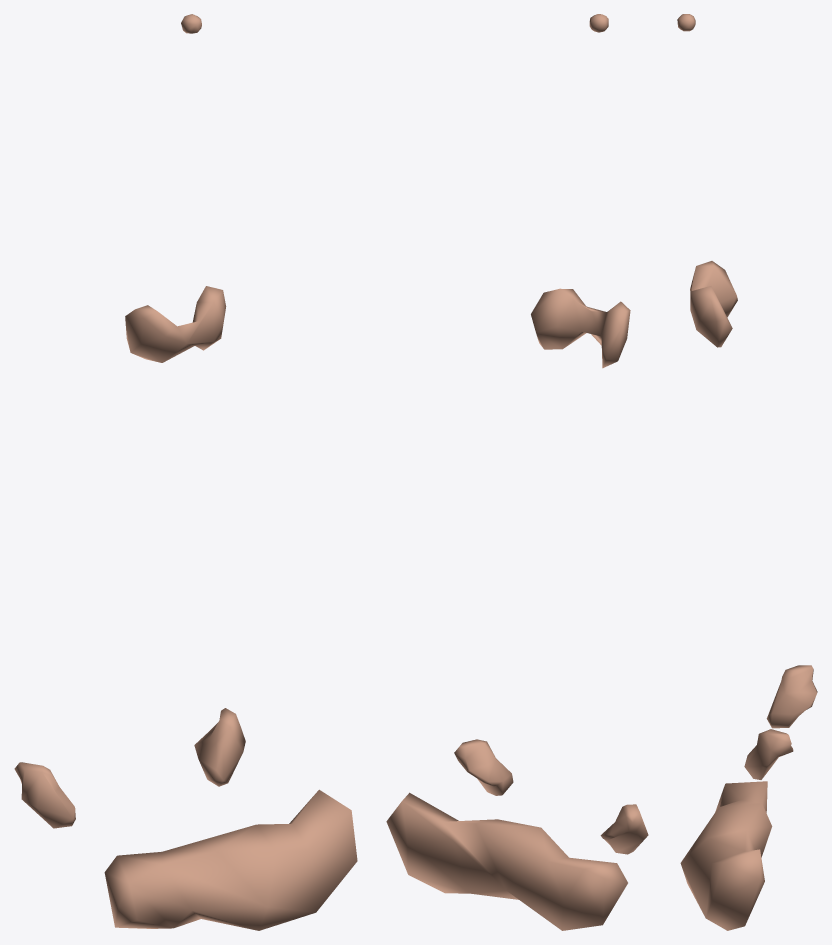
Rendered from pediatric_adolescent_male.endocrine.LOD3.glb.
The picture shows the model from 3 angles, left to right: view 1: azimuth 30°, elevation 25°; view 2: azimuth 150°, elevation 25°; view 3: azimuth 270°, elevation 25°; orthographic projection. The views are drawn at different scales.
Visible parts, largest first — view 1: PEDIATRIC.ADOLESCENT.MALE.ENDOCRINE.PANCREAS, PEDIATRIC.ADOLESCENT.MALE.ENDOCRINE.THYROID, PEDIATRIC.ADOLESCENT.MALE.ENDOCRINE.ADRENAL.L, PEDIATRIC.ADOLESCENT.MALE.ENDOCRINE.ADRENAL.R; view 2: PEDIATRIC.ADOLESCENT.MALE.ENDOCRINE.PANCREAS, PEDIATRIC.ADOLESCENT.MALE.ENDOCRINE.THYROID, PEDIATRIC.ADOLESCENT.MALE.ENDOCRINE.ADRENAL.L, PEDIATRIC.ADOLESCENT.MALE.ENDOCRINE.ADRENAL.R; view 3: PEDIATRIC.ADOLESCENT.MALE.ENDOCRINE.PANCREAS, PEDIATRIC.ADOLESCENT.MALE.ENDOCRINE.THYROID, PEDIATRIC.ADOLESCENT.MALE.ENDOCRINE.ADRENAL.R, PEDIATRIC.ADOLESCENT.MALE.ENDOCRINE.ADRENAL.L.
Part boxes in pixels (x1,y1,x2,y2): PEDIATRIC.ADOLESCENT.MALE.ENDOCRINE.PANCREAS: (104,789,357,930); PEDIATRIC.ADOLESCENT.MALE.ENDOCRINE.THYROID: (125,286,226,362); PEDIATRIC.ADOLESCENT.MALE.ENDOCRINE.ADRENAL.L: (194,708,245,786); PEDIATRIC.ADOLESCENT.MALE.ENDOCRINE.ADRENAL.R: (14,762,75,828); PEDIATRIC.ADOLESCENT.MALE.ENDOCRINE.PANCREAS: (386,792,627,930); PEDIATRIC.ADOLESCENT.MALE.ENDOCRINE.THYROID: (531,288,630,368); PEDIATRIC.ADOLESCENT.MALE.ENDOCRINE.ADRENAL.L: (454,739,513,795); PEDIATRIC.ADOLESCENT.MALE.ENDOCRINE.ADRENAL.R: (600,804,648,854); PEDIATRIC.ADOLESCENT.MALE.ENDOCRINE.PANCREAS: (680,781,772,930); PEDIATRIC.ADOLESCENT.MALE.ENDOCRINE.THYROID: (690,261,737,347); PEDIATRIC.ADOLESCENT.MALE.ENDOCRINE.ADRENAL.R: (766,665,817,728); PEDIATRIC.ADOLESCENT.MALE.ENDOCRINE.ADRENAL.L: (744,729,793,779).
Size of the model in its own units: 0.167 by 0.5119 by 0.0762.
